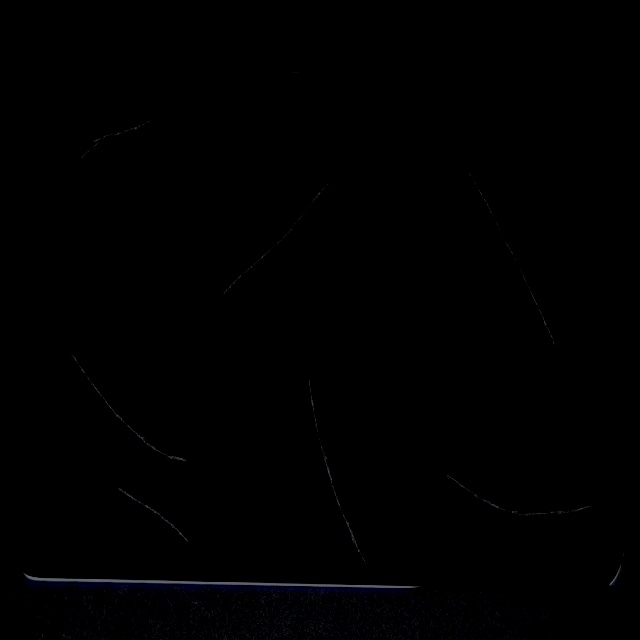scratch: (146, 305, 261, 640)
